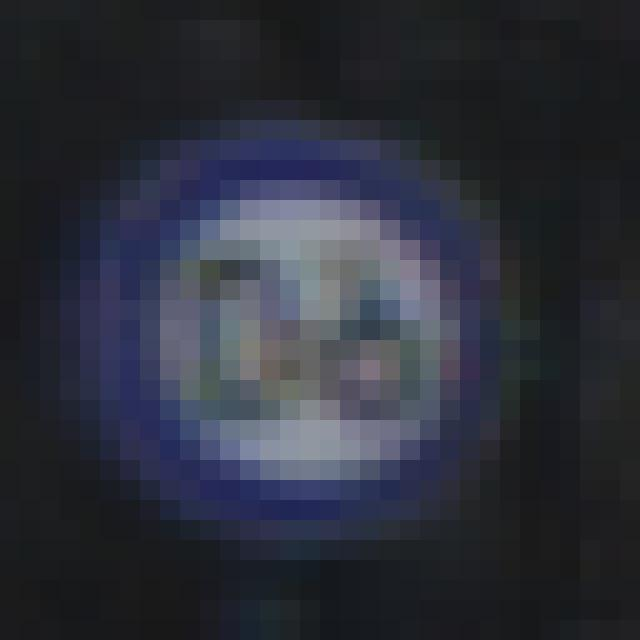SPEED-LIMIT-60: (53, 118, 514, 556)
